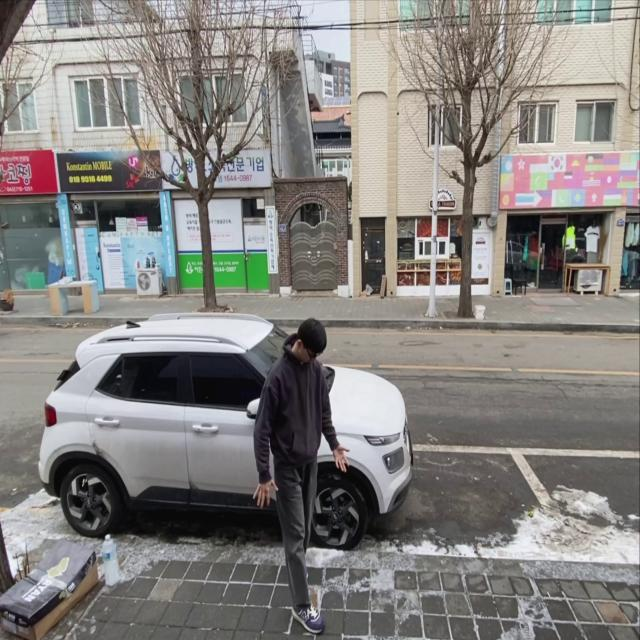bare_hand: (329, 439, 353, 474), (252, 476, 278, 508)
